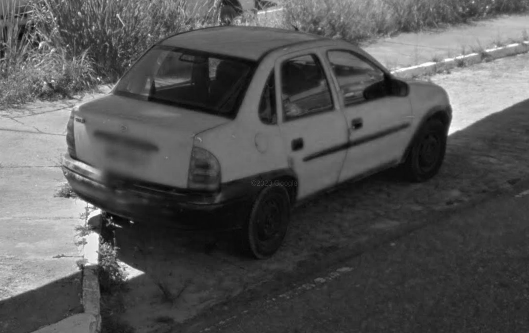car: (63, 23, 454, 259)
